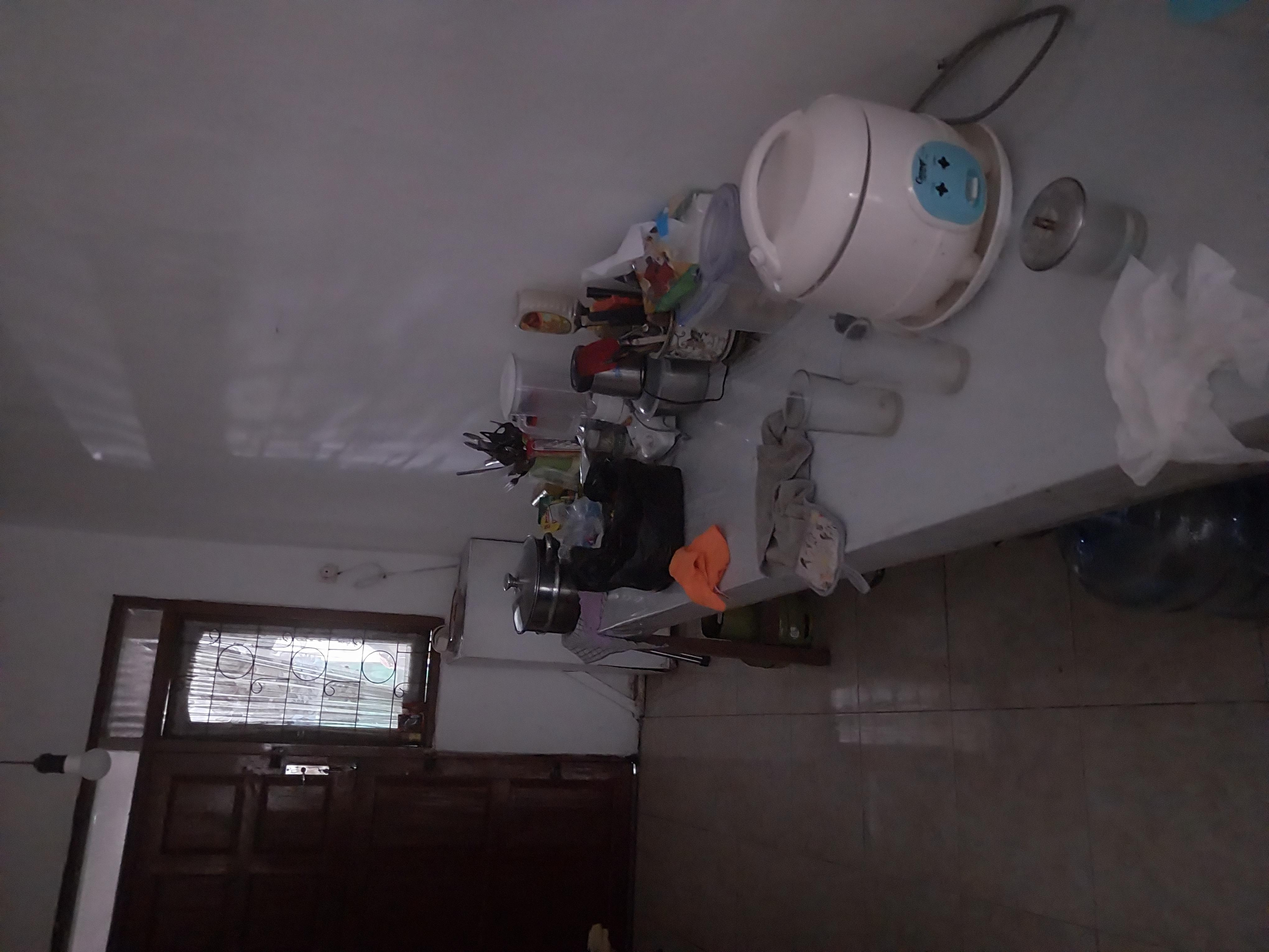door-stuff: (0, 93, 268, 478)
floor-other-merged: (0, 475, 569, 952)
table: (485, 572, 999, 919), (872, 722, 1269, 952), (452, 489, 878, 631), (1095, 695, 1253, 795), (421, 452, 492, 531), (677, 900, 775, 952), (637, 921, 639, 925)
towel: (618, 816, 955, 952), (503, 565, 723, 613), (441, 496, 575, 571), (374, 411, 494, 475)
